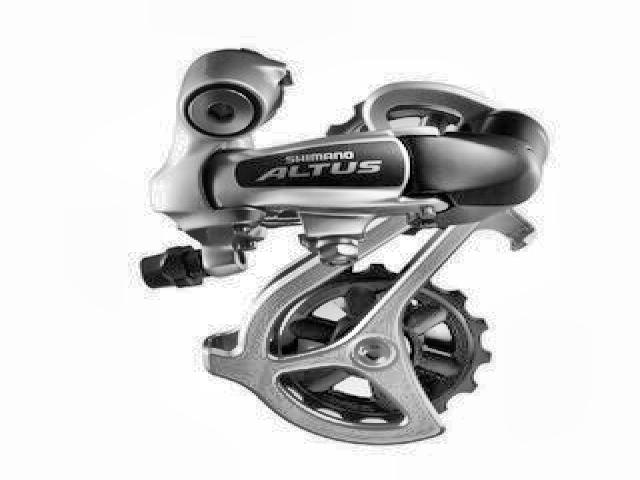rear_derailleur: (136, 45, 559, 449)
